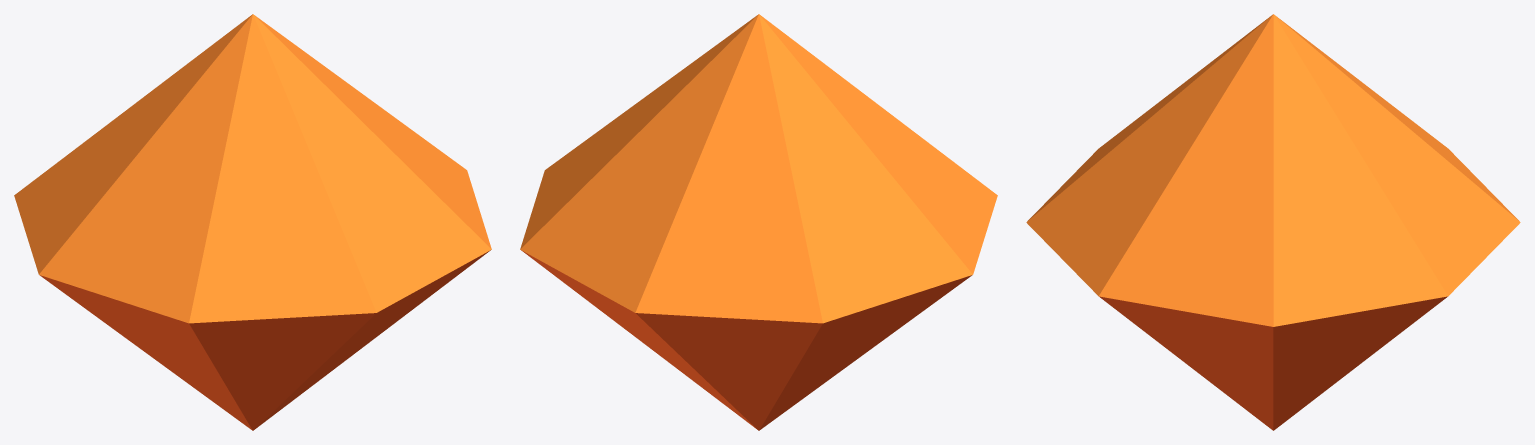
File: FSA_PRJ_004_FireSeed.glb
The picture shows the model from 3 angles, left to right: view 1: azimuth 30°, elevation 25°; view 2: azimuth 150°, elevation 25°; view 3: azimuth 270°, elevation 25°; orthographic projection.
Parts seen in each view (by area): view 1: CrystalUpper, CrystalLower; view 2: CrystalUpper, CrystalLower; view 3: CrystalUpper, CrystalLower.
Part boxes in pixels (x1,y1,x2,y2): CrystalUpper: (14, 14, 491, 323); CrystalLower: (39, 250, 490, 430); CrystalUpper: (520, 14, 997, 323); CrystalLower: (521, 250, 972, 430); CrystalUpper: (1026, 14, 1520, 326); CrystalLower: (1099, 296, 1447, 430).
Size of the model in its own units: 0.43 by 0.4 by 0.43.
